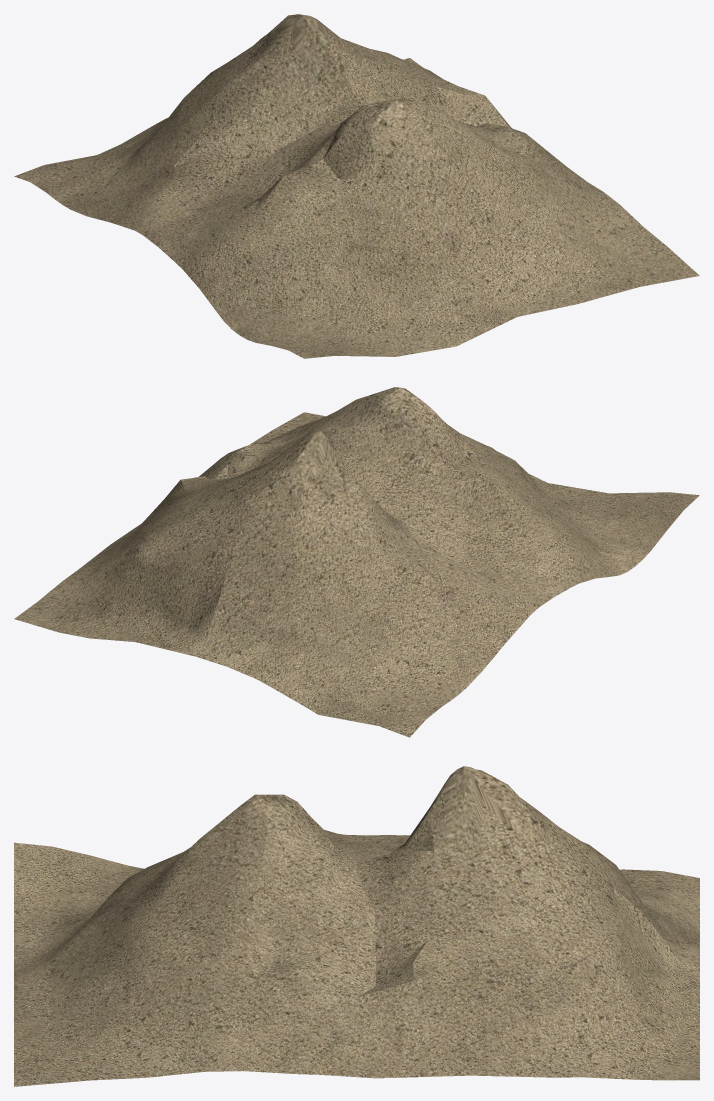
The model's file is tw2_5_dun_addon_01_29-transformed.glb.
The picture shows the model from 3 angles, top to bottom: view 1: azimuth 30°, elevation 25°; view 2: azimuth 150°, elevation 25°; view 3: azimuth 270°, elevation 25°; orthographic projection. The views are drawn at different scales.
Visible parts, largest first — view 1: 5_DUN_ADDONS_01_29; view 2: 5_DUN_ADDONS_01_29; view 3: 5_DUN_ADDONS_01_29.
Boxes of the visible parts, x1,y1,x2,y2 form: 5_DUN_ADDONS_01_29: (14,14,699,358); 5_DUN_ADDONS_01_29: (14,387,699,737); 5_DUN_ADDONS_01_29: (14,766,699,1086).
Size of the model in its own units: 7.08 by 3.2 by 9.
1 material, 1 textured.
